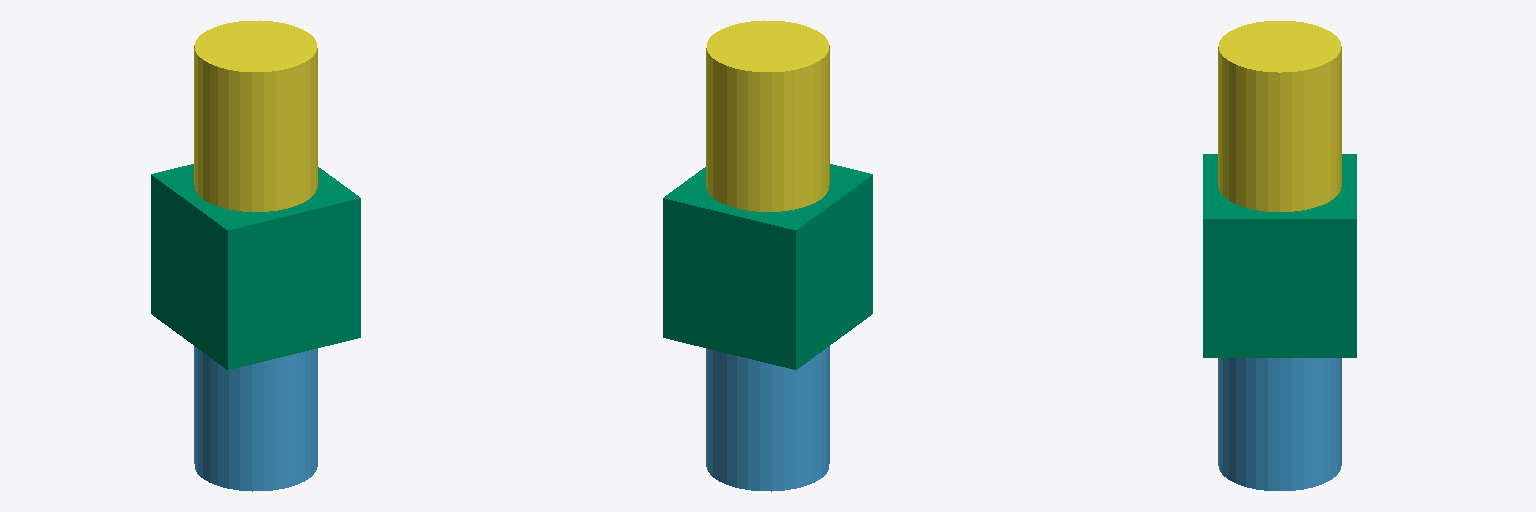
URDF robot description (modular_robot_compiled):
<?xml version="1.0" ?>
<!-- =================================================================================== -->
<!-- |    This document was autogenerated by xacro from autoXACRO.xacro                | -->
<!-- |    EDITING THIS FILE BY HAND IS NOT RECOMMENDED                                 | -->
<!-- =================================================================================== -->
<robot name="modular_robot_compiled" xmlns:xacro="http://www.ros.org/wiki/xacro">
  <link name="fix_base"/>
  <link name="cylinder_base_M0">
    <inertial>
      <origin rpy="0 0 0" xyz="0 0 0"/>
      <mass value=".3"/>
      <inertia ixx=".0001" ixy="0" ixz="0" iyy=".0001" iyz="0" izz=".0001"/>
    </inertial>
    <visual>
      <geometry>
        <cylinder length="0.05" radius="0.02"/>
      </geometry>
    </visual>
    <collision>
      <geometry>
        <cylinder length="0.05" radius="0.02"/>
      </geometry>
    </collision>
    <material name="">
      <color rgba="0.25098 0.25098 0.25098 1"/>
    </material>
  </link>
  <joint name="module_0_attachment" type="fixed">
    <origin rpy="0 0 0" xyz="0 0 0"/>
    <parent link="fix_base"/>
    <child link="cylinder_base_M0"/>
  </joint>
  <link name="cube_base_M1">
    <inertial>
      <origin rpy="0 0 0" xyz="0 0 0"/>
      <mass value=".3"/>
      <inertia ixx=".0001" ixy="0" ixz="0" iyy=".0010" iyz="0" izz=".0001"/>
    </inertial>
    <visual>
      <geometry>
        <box size=".05 .05 .05"/>
      </geometry>
    </visual>
    <collision>
      <geometry>
        <box size=".05 .05 .05"/>
      </geometry>
    </collision>
    <material name="">
      <color rgba="0.79216 0.81961 0.93333 1"/>
    </material>
  </link>
  <joint name="module_1_attachment" type="fixed">
    <origin rpy="0 0 -1.57079632679" xyz="0 0 0.05"/>
    <parent link="cylinder_base_M0"/>
    <child link="cube_base_M1"/>
  </joint>
  <link name="cylinder_base_M2">
    <inertial>
      <origin rpy="0 0 0" xyz="0 0 0"/>
      <mass value=".3"/>
      <inertia ixx=".0001" ixy="0" ixz="0" iyy=".0001" iyz="0" izz=".0001"/>
    </inertial>
    <visual>
      <geometry>
        <cylinder length="0.05" radius="0.02"/>
      </geometry>
    </visual>
    <collision>
      <geometry>
        <cylinder length="0.05" radius="0.02"/>
      </geometry>
    </collision>
    <material name="">
      <color rgba="0.25098 0.25098 0.25098 1"/>
    </material>
  </link>
  <joint name="module_2_attachment" type="fixed">
    <origin rpy="0 0 3.14159265359" xyz="0 0 0.05"/>
    <parent link="cube_base_M1"/>
    <child link="cylinder_base_M2"/>
  </joint>
  <link name="bendy_input_M3">
    <inertial>
      <origin rpy="0 0 0" xyz="0.03 0 0"/>
      <mass value=".3"/>
      <inertia ixx=".0001" ixy="0" ixz="0" iyy=".0001" iyz="0" izz=".0001"/>
    </inertial>
    <visual>
      <geometry>
        <mesh filename="Rotary_Module1.STL"/>
      </geometry>
    </visual>
    <collision>
      <geometry>
        <mesh filename="Rotary_Module1.STL"/>
      </geometry>
    </collision>
    <material name="">
      <color rgba="0.9 0.9 0.9 1"/>
    </material>
  </link>
  <link name="bendy_output_M3">
    <inertial>
      <origin rpy="0 0 0" xyz="0.0075 0 0"/>
      <mass value=".110"/>
      <inertia ixx=".00001" ixy="0" ixz="0" iyy=".00001" iyz="0" izz=".00001"/>
    </inertial>
    <visual>
      <geometry>
        <mesh filename="Rotary_Module2.STL"/>
      </geometry>
    </visual>
    <collision>
      <geometry>
        <mesh filename="Rotary_Module2.STL"/>
      </geometry>
    </collision>
    <material name="">
      <color rgba="0.9 0.9 0.9 1"/>
    </material>
  </link>
  <joint name="bendy_joint_M3" type="continuous">
    <parent link="bendy_input_M3"/>
    <child link="bendy_output_M3"/>
    <origin rpy="0 0 0" xyz="0.0383 0 0"/>
  </joint>
  <joint name="module_3_attachment" type="fixed">
    <origin rpy="0 0 0" xyz="0 0 0.05"/>
    <parent link="cylinder_base_M2"/>
    <child link="bendy_input_M3"/>
  </joint>
</robot>

--- What the picture shows (computed from the rendered views, not written in the file) ---
Views: 3 orthographic renders of the robot side by side, from view 1: azimuth 30°, elevation 25°; view 2: azimuth 150°, elevation 25°; view 3: azimuth 270°, elevation 25°.
Model modular_robot_compiled with 6 links and 5 joints (1 continuous, 4 fixed), rooted at fix_base, posed every joint at zero.
Visible links, largest first — view 1: cube_base_M1, cylinder_base_M2, cylinder_base_M0; view 2: cube_base_M1, cylinder_base_M2, cylinder_base_M0; view 3: cube_base_M1, cylinder_base_M2, cylinder_base_M0.
Boxes of the visible links, x1,y1,x2,y2 form: cube_base_M1: (151, 164, 360, 369); cylinder_base_M2: (194, 20, 317, 211); cylinder_base_M0: (194, 346, 317, 491); cube_base_M1: (663, 164, 872, 369); cylinder_base_M2: (706, 20, 829, 211); cylinder_base_M0: (706, 346, 829, 491); cube_base_M1: (1203, 154, 1356, 357); cylinder_base_M2: (1218, 21, 1341, 211); cylinder_base_M0: (1218, 358, 1341, 490).
Bounding box of the posed robot: 0.05 × 0.05 × 0.15 m (x, y, z).
Meshes: 2 distinct files referenced, 0 mesh visuals loaded (none loaded); not drawn: 2 (reference not matched to a file when rendering).